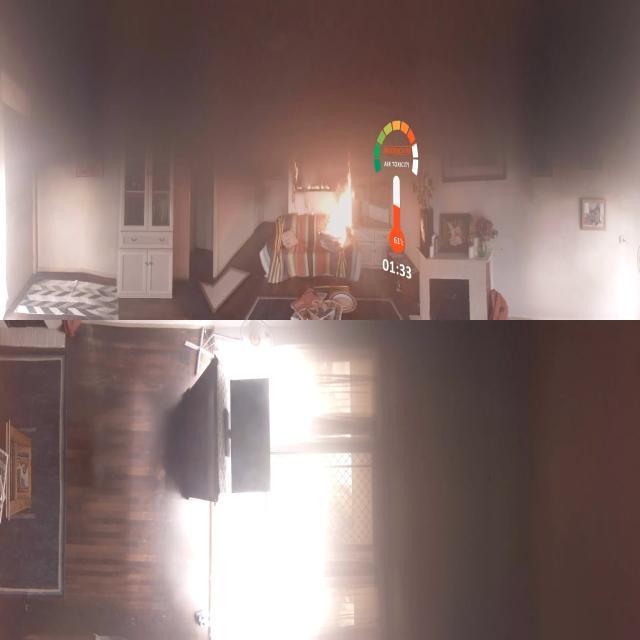Fire: (270, 111, 386, 264)
